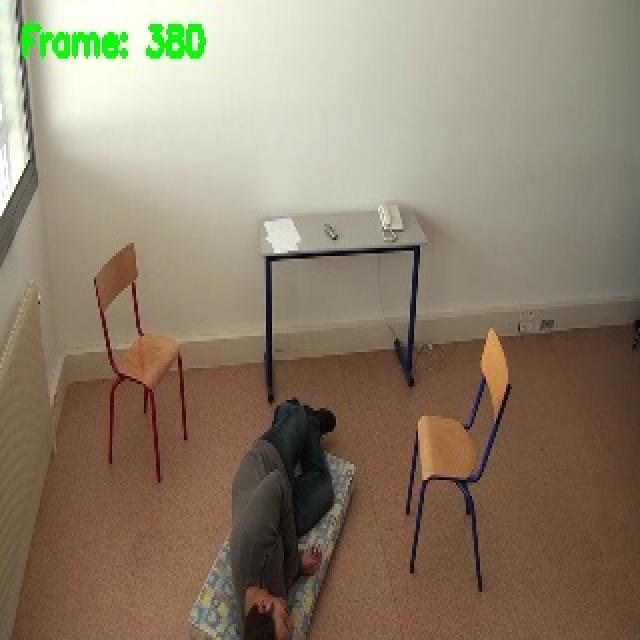Fall-Detected: (229, 395, 344, 640)
